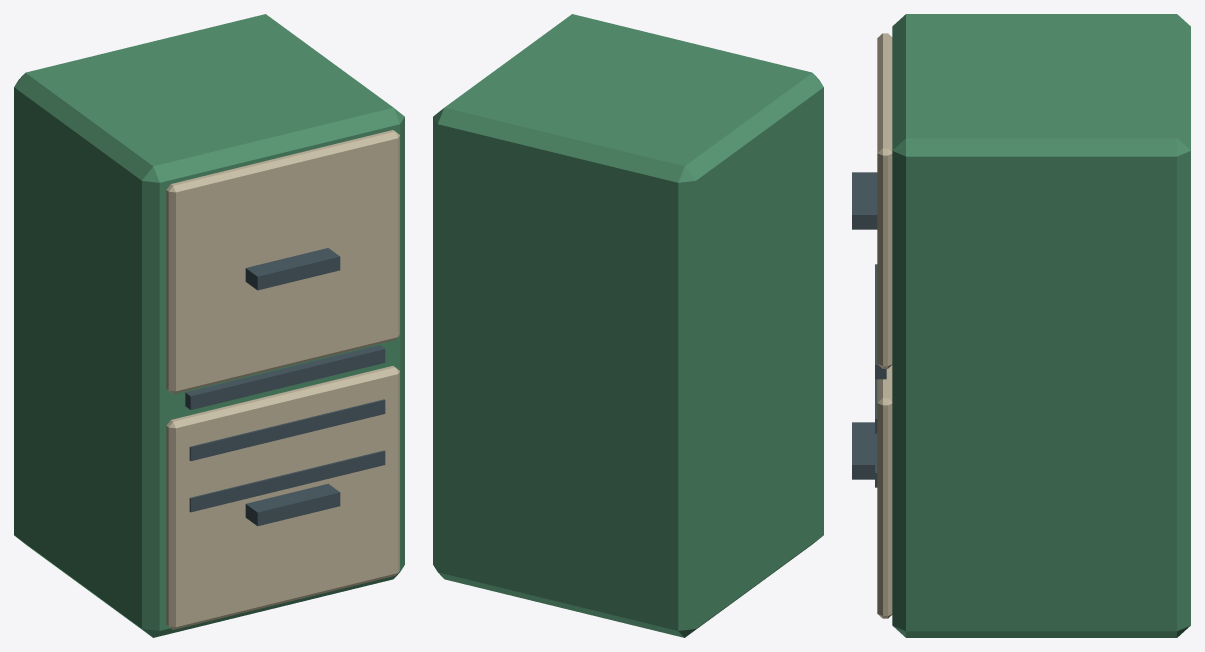
The model's file is electrical_panel.glb.
3 views of the same model, side by side, from view 1: azimuth 30°, elevation 25°; view 2: azimuth 150°, elevation 25°; view 3: azimuth 270°, elevation 25° (orthographic). The views are drawn at different scales.
Visible parts, largest first — view 1: electrical_panel; view 2: electrical_panel; view 3: electrical_panel.
Boxes of the visible parts, x1,y1,x2,y2 form: electrical_panel: [14, 14, 404, 637]; electrical_panel: [433, 14, 823, 637]; electrical_panel: [852, 14, 1190, 637].
Size of the model in its own units: 0.7 by 1.2 by 0.7375.
